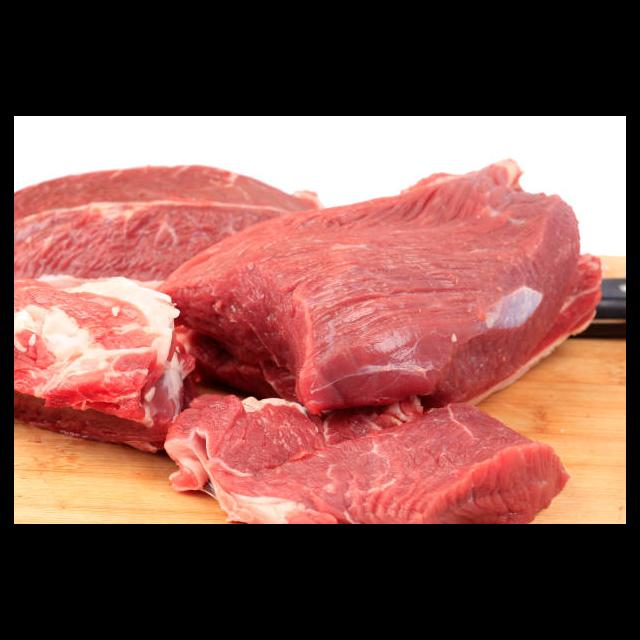beef: (151, 160, 602, 411), (165, 391, 572, 524), (17, 165, 326, 289), (15, 272, 199, 458)
